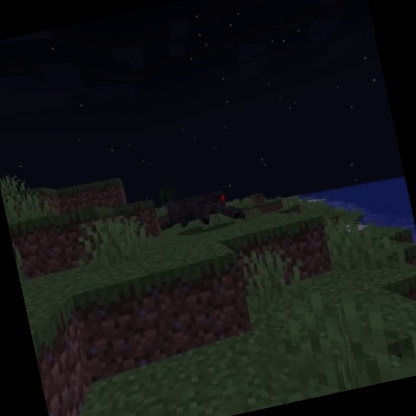spider: (153, 181, 251, 242)
